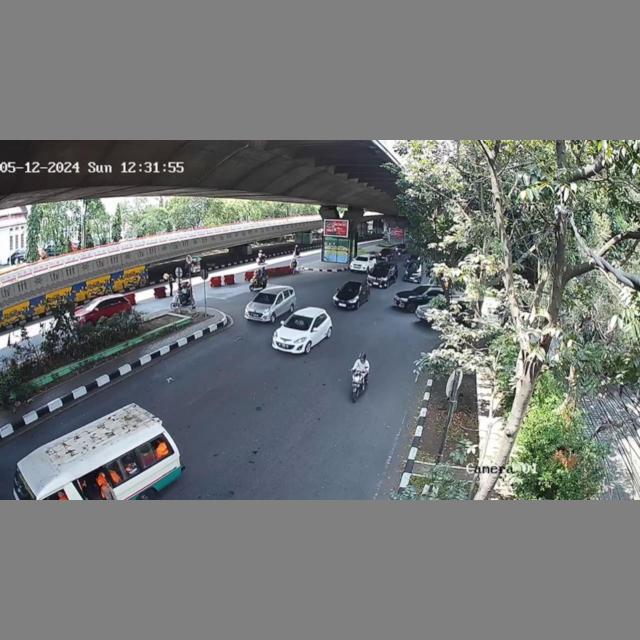windshield: (286, 315, 313, 330), (255, 291, 277, 306)
